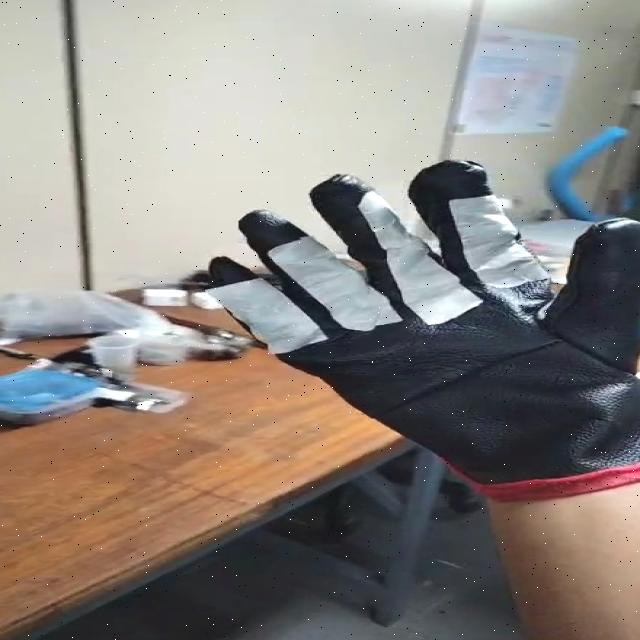Gloves: (203, 155, 640, 491)
